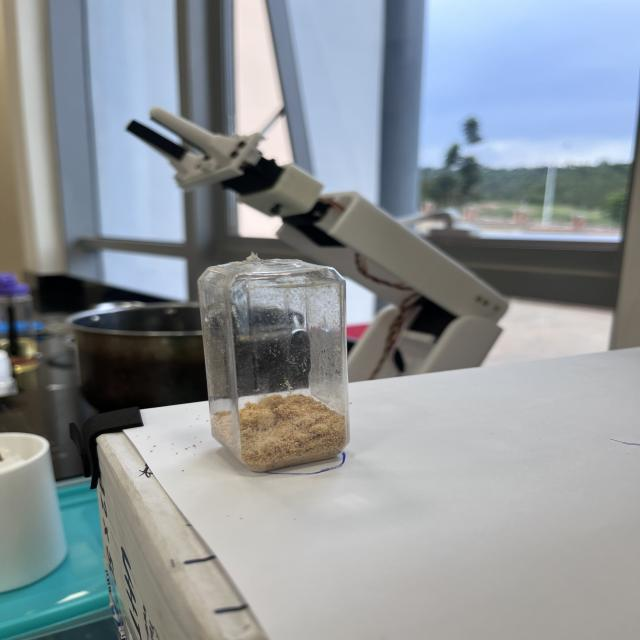garlic_powder: (213, 394, 349, 469)
